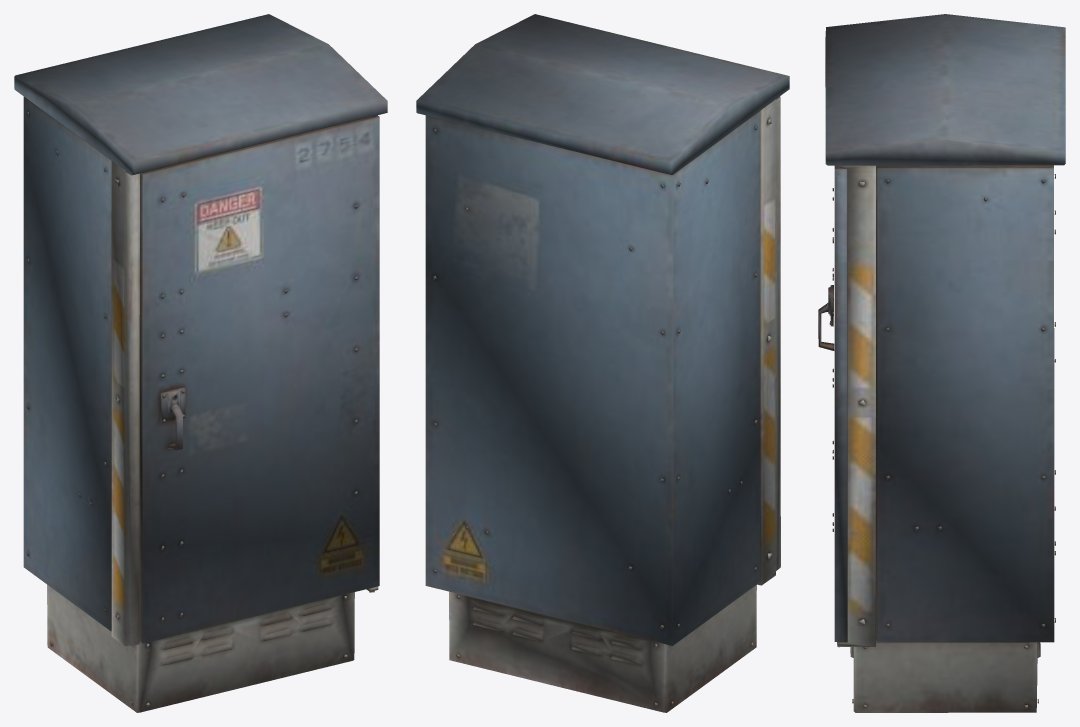
3 views of the same model, side by side, from view 1: azimuth 30°, elevation 25°; view 2: azimuth 150°, elevation 25°; view 3: azimuth 270°, elevation 25° (orthographic).
Parts seen in each view (by area): view 1: utility_box_01_box; view 2: utility_box_01_box; view 3: utility_box_01_box.
Boxes of the visible parts, x1,y1,x2,y2 form: utility_box_01_box: (14, 14, 387, 712); utility_box_01_box: (416, 14, 789, 712); utility_box_01_box: (818, 14, 1065, 712).
Bounding box in the file's own units: 0.5177 × 1.12 × 0.4306.
1 material, 1 textured.
